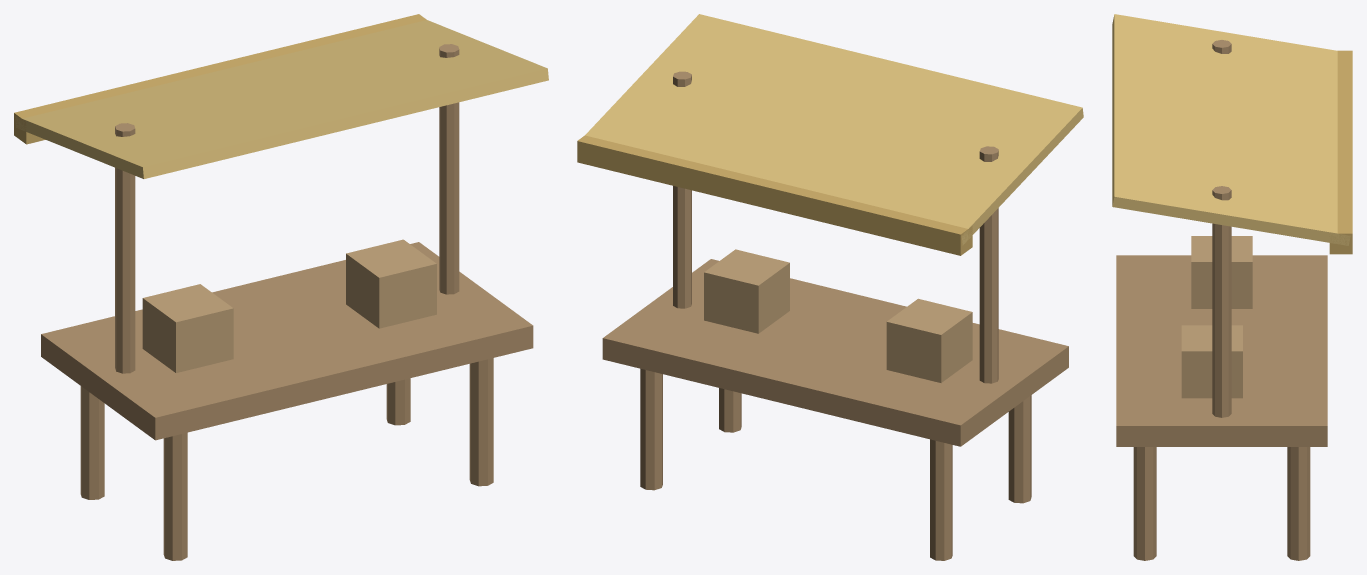
The model's file is market_stall.glb.
The picture shows the model from 3 angles, left to right: view 1: azimuth 30°, elevation 25°; view 2: azimuth 150°, elevation 25°; view 3: azimuth 270°, elevation 25°; orthographic projection. The views are drawn at different scales.
Parts seen in each view (by area): view 1: Counter, Awning, Crate0, Crate1, Post, Post.001, Trim, Leg.002, Leg.003, Leg, Leg.001; view 2: Awning, Counter, Trim, Crate0, Crate1, Post, Leg, Leg.001, Post.001, Leg.002, Leg.003; view 3: Awning, Counter, Post.001, Trim, Crate1, Crate0, Leg.001, Leg.003.
Boxes of the visible parts, <box> form: Counter: <box>41,242,533,440</box>; Awning: <box>15,20,548,178</box>; Crate0: <box>142,284,233,372</box>; Crate1: <box>346,239,436,328</box>; Post: <box>115,123,135,373</box>; Post.001: <box>439,44,459,294</box>; Trim: <box>14,14,426,144</box>; Leg.002: <box>163,432,187,560</box>; Leg.003: <box>469,358,493,486</box>; Leg: <box>80,386,104,499</box>; Leg.001: <box>386,378,410,425</box>; Awning: <box>585,14,1083,245</box>; Counter: <box>602,259,1068,446</box>; Trim: <box>577,135,972,255</box>; Crate0: <box>886,298,972,382</box>; Crate1: <box>704,249,789,333</box>; Post: <box>979,146,998,383</box>; Leg: <box>930,439,952,560</box>; Leg.001: <box>640,368,662,490</box>; Post.001: <box>673,71,691,308</box>; Leg.002: <box>1008,395,1031,503</box>; Leg.003: <box>719,388,741,432</box>; Awning: <box>1112,14,1350,245</box>; Counter: <box>1116,255,1327,446</box>; Post.001: <box>1212,186,1231,417</box>; Trim: <box>1329,50,1352,254</box>; Crate1: <box>1181,325,1242,398</box>; Crate0: <box>1191,236,1252,308</box>; Leg.001: <box>1287,447,1310,560</box>; Leg.003: <box>1133,447,1156,560</box>.
Bounding box in the file's own units: 2.25 × 2.19 × 1.25.
